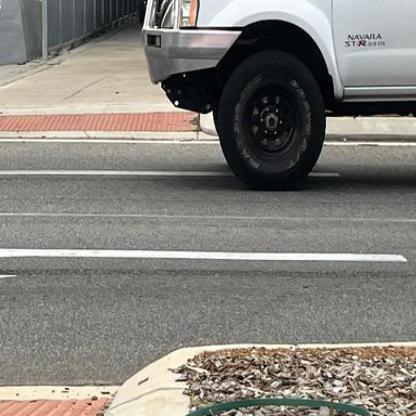Tire: (217, 51, 326, 191)
